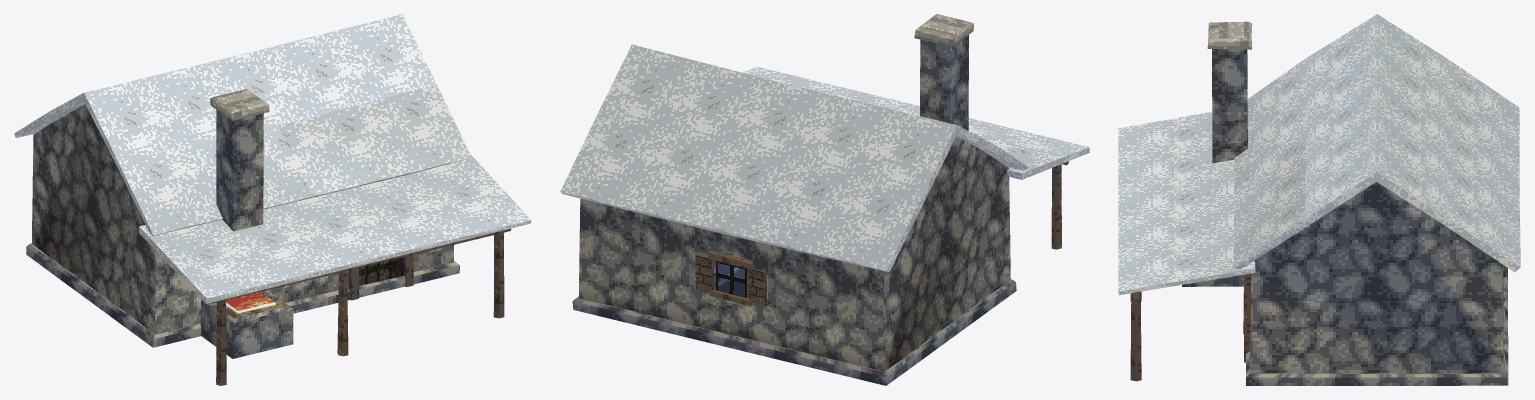
File: vlg.smithy.glb
The picture shows the model from 3 angles, left to right: view 1: azimuth 30°, elevation 25°; view 2: azimuth 150°, elevation 25°; view 3: azimuth 270°, elevation 25°; orthographic projection. The views are drawn at different scales.
Visible parts, largest first — view 1: kit_roof, kit_walls, kit_stonework, kit_frame, kit_fittings; view 2: kit_roof, kit_walls, kit_stonework, kit_fittings, kit_frame; view 3: kit_roof, kit_walls, kit_stonework, kit_frame, kit_fittings.
Part boxes in pixels (<box>): kit_roof: <box>14,14,531,303</box>; kit_walls: <box>31,104,453,334</box>; kit_stonework: <box>26,89,459,358</box>; kit_frame: <box>211,228,511,385</box>; kit_fittings: <box>226,254,413,313</box>; kit_roof: <box>560,44,1089,272</box>; kit_walls: <box>578,136,1010,371</box>; kit_stonework: <box>572,14,1016,385</box>; kit_fittings: <box>695,250,766,306</box>; kit_frame: <box>1051,161,1068,249</box>; kit_roof: <box>1118,14,1520,295</box>; kit_walls: <box>1250,182,1503,373</box>; kit_stonework: <box>1182,21,1508,385</box>; kit_frame: <box>1130,291,1141,381</box>; kit_fittings: <box>1243,265,1507,362</box>.
Size of the model in its own units: 7.63 by 5.27 by 7.94.
Materials: 9 (9 with a texture image).
